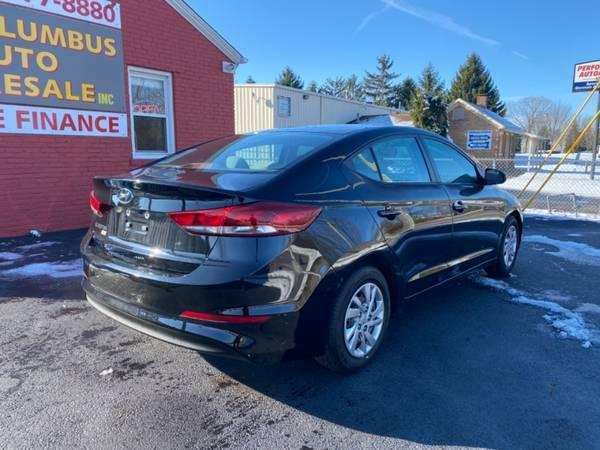Front_Right_Door: (445, 182, 504, 273)
Front_Right_Window: (417, 135, 482, 185)
Front_Windshield: (152, 130, 349, 174)
Left_Taillight: (88, 190, 101, 217)
Rear_Bumper: (76, 223, 341, 357)
Rear_Fender: (241, 164, 392, 275)
Rear_Right_Door: (343, 172, 459, 293)
Rear_Right_Window: (336, 132, 432, 182)
Right_Taillight: (165, 201, 323, 235)
Roof: (254, 122, 475, 171)
Tailgate: (88, 166, 277, 274)
Wheel: (334, 266, 394, 366), (499, 219, 519, 272)
